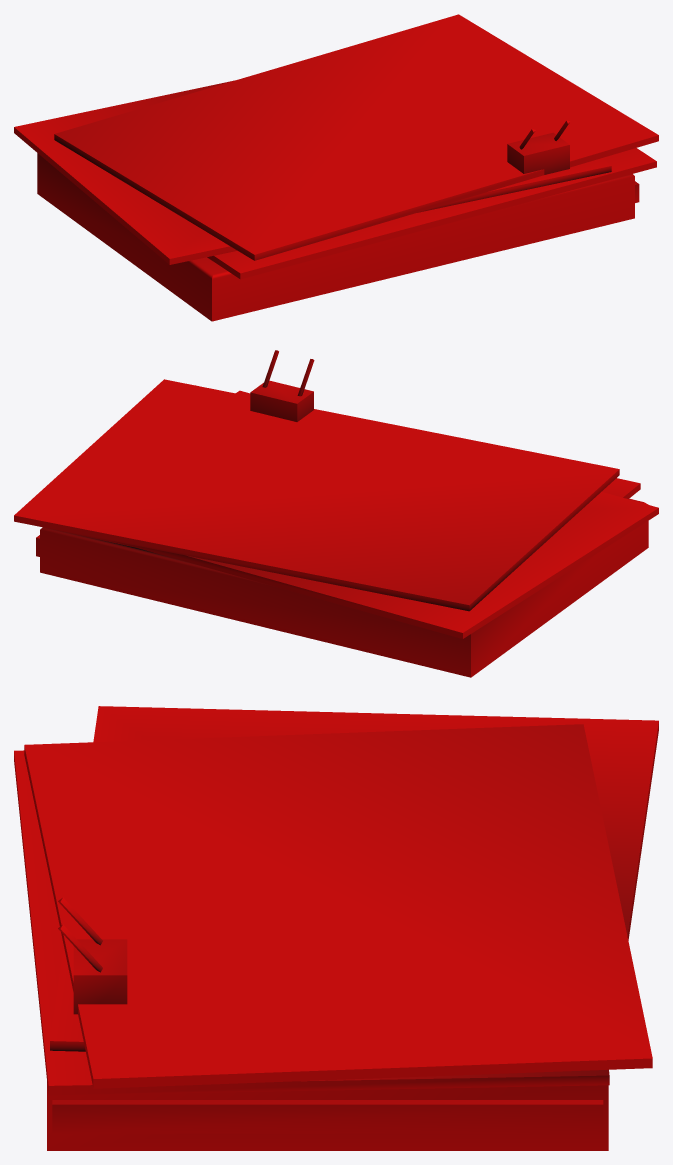
Rendered from CI_Office_Paper_Stack.glb.
3 views of the same model, one above another, from view 1: azimuth 30°, elevation 25°; view 2: azimuth 150°, elevation 25°; view 3: azimuth 270°, elevation 25° (orthographic). The views are drawn at different scales.
Parts seen in each view (by area): view 1: CI_Office_Paper_Stack; view 2: CI_Office_Paper_Stack; view 3: CI_Office_Paper_Stack.
Boxes of the visible parts, x1,y1,x2,y2 form: CI_Office_Paper_Stack: (14, 14, 658, 321); CI_Office_Paper_Stack: (14, 350, 658, 677); CI_Office_Paper_Stack: (14, 706, 658, 1150).
Size of the model in its own units: 0.3387 by 0.0728 by 0.2412.
